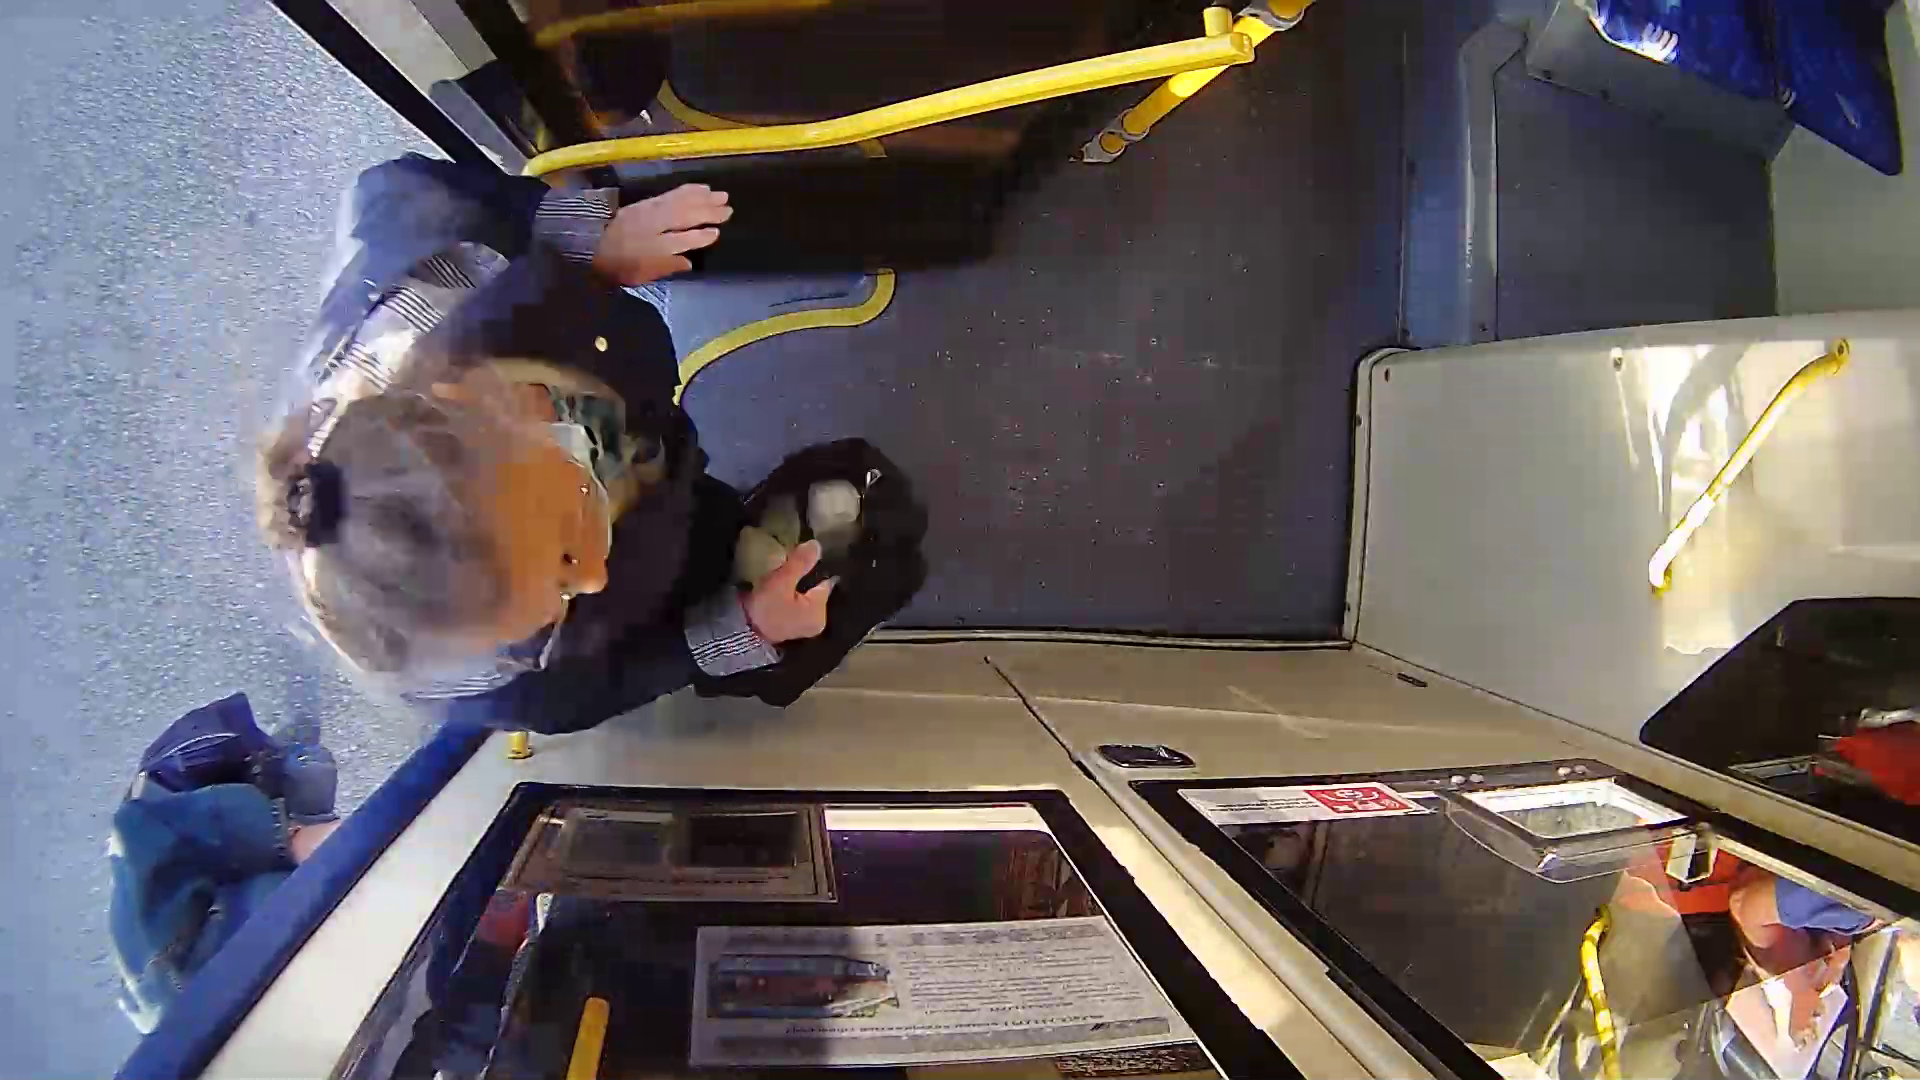person: (284, 133, 993, 735)
